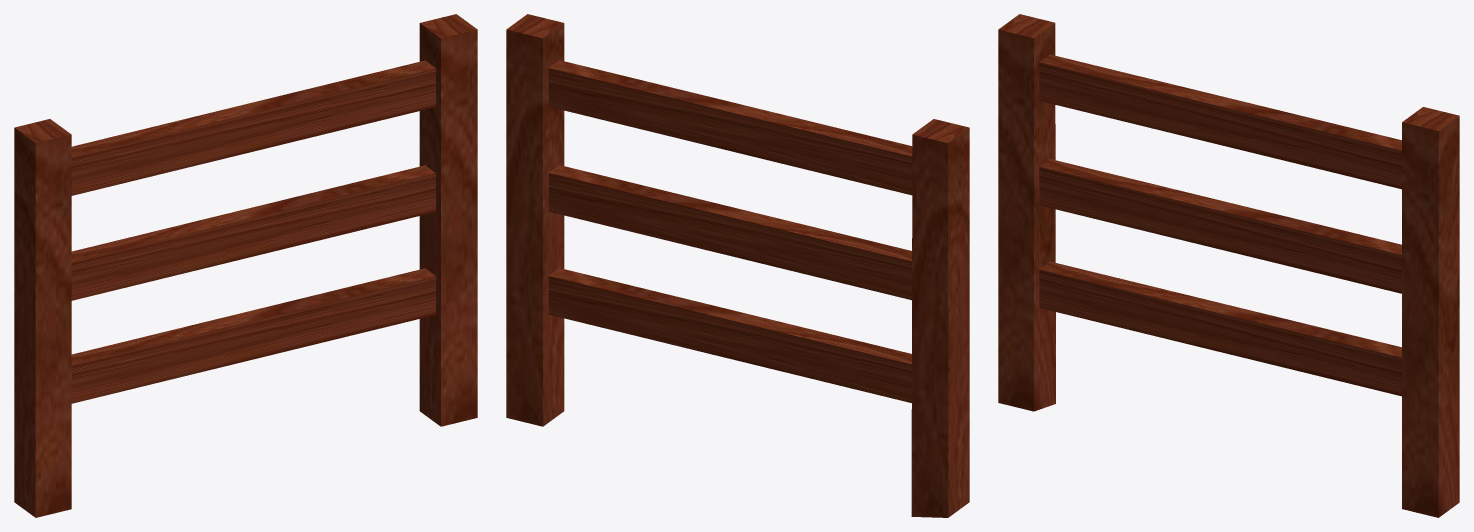
The model's file is richfenceperfecht.fbx.
3 renders of one model, left to right at view 1: azimuth 30°, elevation 25°; view 2: azimuth 150°, elevation 25°; view 3: azimuth 330°, elevation 25°, orthographic.
Visible parts, largest first — view 1: Cube.029, Cube.028, Cube.026, Cube.027, Cube.025; view 2: Cube.029, Cube.028, Cube.027, Cube.026, Cube.025; view 3: Cube.028, Cube.029, Cube.025, Cube.027, Cube.026.
Part boxes in pixels (x1=…): Cube.029: x1=14, y1=119, x2=71, y2=517; Cube.028: x1=419, y1=14, x2=477, y2=426; Cube.026: x1=71, y1=165, x2=435, y2=300; Cube.027: x1=71, y1=60, x2=435, y2=195; Cube.025: x1=71, y1=268, x2=435, y2=403; Cube.029: x1=911, y1=119, x2=969, y2=517; Cube.028: x1=506, y1=14, x2=564, y2=426; Cube.027: x1=548, y1=60, x2=912, y2=195; Cube.026: x1=548, y1=165, x2=911, y2=300; Cube.025: x1=548, y1=268, x2=911, y2=402; Cube.028: x1=1402, y1=107, x2=1459, y2=517; Cube.029: x1=998, y1=14, x2=1055, y2=411; Cube.025: x1=1039, y1=261, x2=1401, y2=396; Cube.027: x1=1039, y1=54, x2=1401, y2=189; Cube.026: x1=1039, y1=159, x2=1401, y2=293.
Size of the model in its own units: 595 by 500 by 50.
